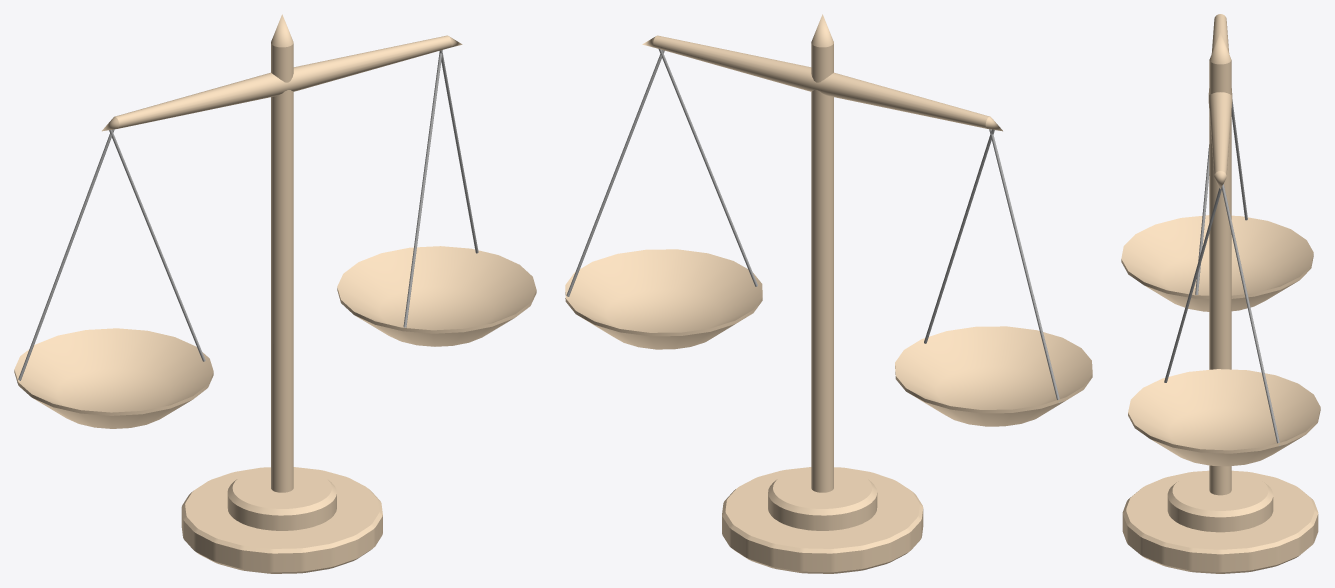
Rendered from XR_law_mini_model.fbx.
3 renders of one model, left to right at view 1: azimuth 30°, elevation 25°; view 2: azimuth 150°, elevation 25°; view 3: azimuth 270°, elevation 25°, orthographic. The views are drawn at different scales.
Parts seen in each view (by area): view 1: pasted__pCylinder1, pCylinder1, pCylinder3, pCylinder2, pCylinder5, pCylinder4, pasted__pCylinder6, pasted__pasted__pasted__pasted__pCylinder6, pasted__pasted__pCylinder6, pasted__pasted__pasted__pCylinder6; view 2: pCylinder1, pasted__pCylinder1, pCylinder3, pCylinder2, pCylinder5, pCylinder4, pasted__pasted__pasted__pasted__pCylinder6, pasted__pasted__pasted__pCylinder6, pasted__pCylinder6, pasted__pasted__pCylinder6; view 3: pCylinder1, pasted__pCylinder1, pCylinder3, pCylinder2, pCylinder4, pCylinder5, pasted__pasted__pasted__pCylinder6, pasted__pCylinder6, pasted__pasted__pCylinder6, pasted__pasted__pasted__pasted__pCylinder6.
Part boxes in pixels (box(x1,y1,x2,y2)): pasted__pCylinder1: box(14, 328, 213, 428); pCylinder1: box(337, 246, 536, 346); pCylinder3: box(181, 467, 382, 573); pCylinder2: box(271, 14, 293, 492); pCylinder5: box(102, 35, 462, 131); pCylinder4: box(227, 467, 336, 530); pasted__pCylinder6: box(403, 50, 442, 327); pasted__pasted__pasted__pasted__pCylinder6: box(17, 129, 114, 382); pasted__pasted__pCylinder6: box(109, 130, 205, 361); pasted__pasted__pasted__pCylinder6: box(439, 50, 478, 253); pCylinder1: box(565, 249, 762, 349); pasted__pCylinder1: box(895, 326, 1092, 426); pCylinder3: box(722, 467, 923, 573); pCylinder2: box(811, 14, 833, 492); pCylinder5: box(642, 35, 1002, 131); pCylinder4: box(768, 467, 877, 530); pasted__pasted__pasted__pasted__pCylinder6: box(989, 129, 1060, 402); pasted__pasted__pasted__pCylinder6: box(565, 50, 664, 298); pasted__pCylinder6: box(658, 48, 757, 286); pasted__pasted__pCylinder6: box(924, 129, 994, 343); pCylinder1: box(1128, 369, 1320, 466); pasted__pCylinder1: box(1121, 215, 1313, 311); pCylinder3: box(1122, 470, 1318, 573); pCylinder2: box(1209, 32, 1231, 495); pCylinder4: box(1167, 471, 1273, 532); pCylinder5: box(1208, 14, 1232, 189); pasted__pasted__pasted__pCylinder6: box(1221, 184, 1280, 446); pasted__pCylinder6: box(1164, 188, 1221, 382); pasted__pasted__pCylinder6: box(1195, 144, 1209, 294); pasted__pasted__pasted__pasted__pCylinder6: box(1231, 99, 1247, 220).
Size of the model in its own units: 17.62 by 17.52 by 6.3.
